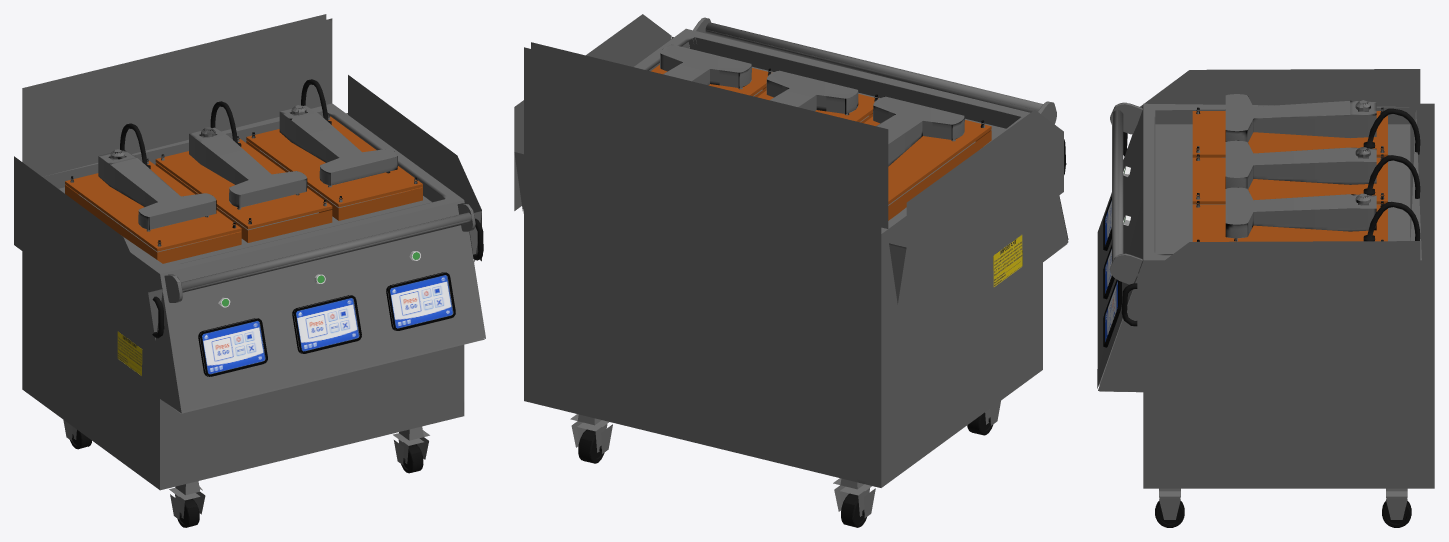
Rendered from kt_platen_grill.fbx.
3 renders of one model, left to right at view 1: azimuth 30°, elevation 25°; view 2: azimuth 150°, elevation 25°; view 3: azimuth 270°, elevation 25°, orthographic. The views are drawn at different scales.
Visible parts, largest first — view 1: kt_platen_grill_LOD0; view 2: kt_platen_grill_LOD0; view 3: kt_platen_grill_LOD0.
Boxes of the visible parts, box(x1,y1,x2,y2) form: kt_platen_grill_LOD0: box(14, 14, 485, 527); kt_platen_grill_LOD0: box(514, 14, 1068, 527); kt_platen_grill_LOD0: box(1097, 69, 1434, 527).
Size of what is drawn, in the model's own units: 1.23 by 1.25 by 1.02.
1 material, 1 textured.
